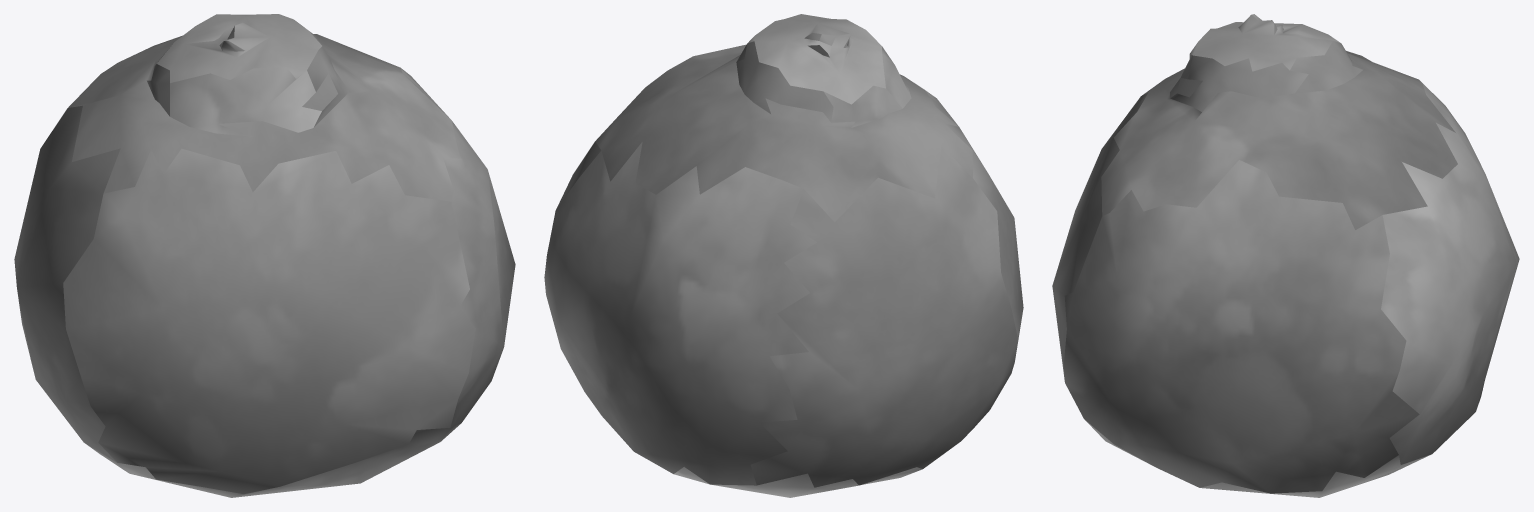
File: SM_Orange_01c.fbx
The picture shows the model from 3 angles, left to right: view 1: azimuth 30°, elevation 25°; view 2: azimuth 150°, elevation 25°; view 3: azimuth 270°, elevation 25°; orthographic projection. The views are drawn at different scales.
Parts seen in each view (by area): view 1: SM_Orange_01c_LOD0; view 2: SM_Orange_01c_LOD0; view 3: SM_Orange_01c_LOD0.
Part boxes in pixels (<box>): SM_Orange_01c_LOD0: <box>14,14,515,497</box>; SM_Orange_01c_LOD0: <box>544,14,1023,497</box>; SM_Orange_01c_LOD0: <box>1052,14,1519,497</box>.
Size of the model in its own units: 10.81 by 10.7 by 10.58.
